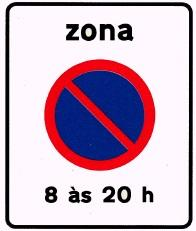zona de estacionamento proibido: (0, 1, 196, 231)
